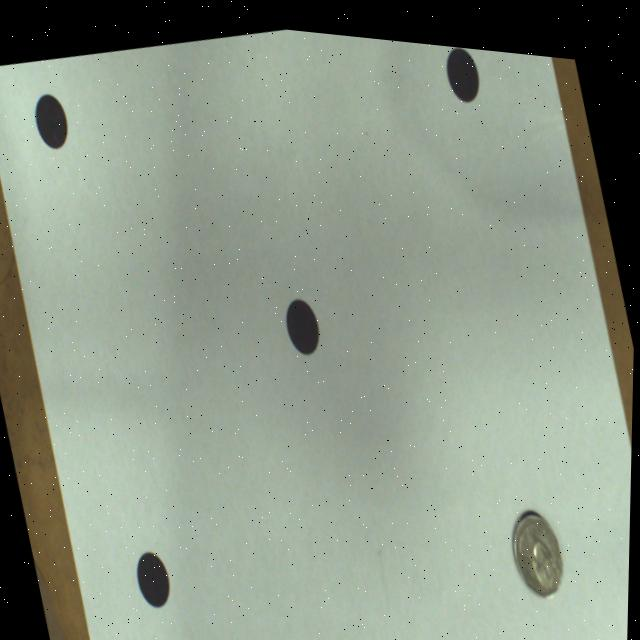head5bath: (515, 500, 565, 584)
space: (139, 547, 172, 604), (446, 38, 480, 92), (287, 293, 321, 347), (35, 93, 67, 148)
